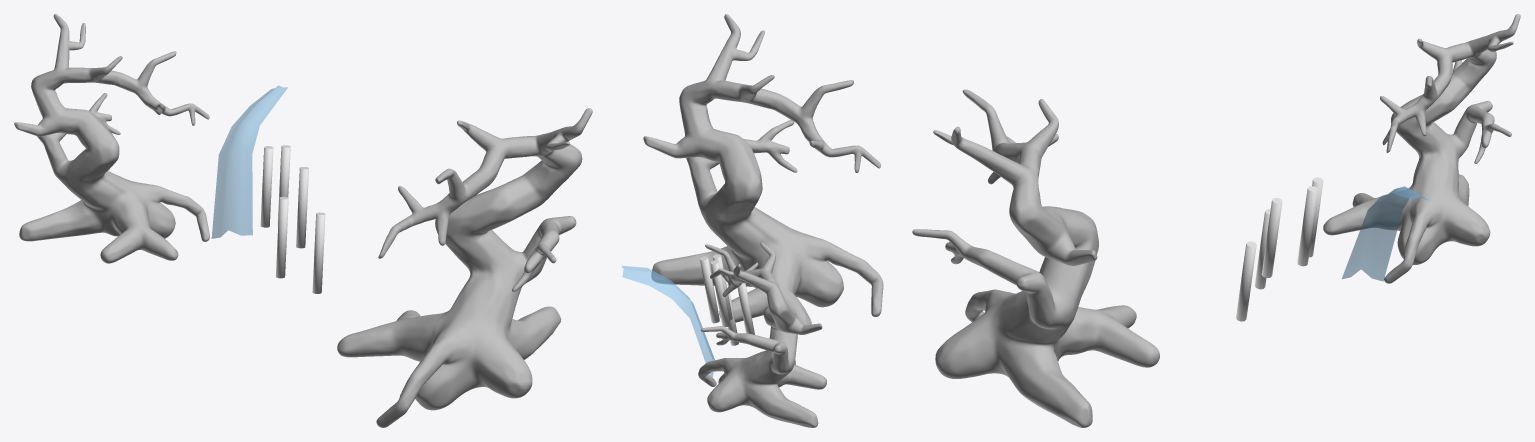
Rendered from BRUME_Blockout_N_Out1.fbx.
The picture shows the model from 3 angles, left to right: view 1: azimuth 30°, elevation 25°; view 2: azimuth 150°, elevation 25°; view 3: azimuth 270°, elevation 25°; orthographic projection. The views are drawn at different scales.
Parts seen in each view (by area): view 1: SM_Arbre_001.004, SM_Arbre_001, SM_Cascade.001, Cylinder.173, Cylinder.176, Cylinder.177, Cylinder.175, Cylinder.172; view 2: SM_Arbre_001.004, SM_Arbre_001, SM_Cascade.001, Cylinder.172, Cylinder.173, Cylinder.176; view 3: SM_Arbre_001.004, SM_Arbre_001, SM_Cascade.001, Cylinder.177, Cylinder.172, Cylinder.175.
Part boxes in pixels (bbox=[...]): SM_Arbre_001.004: bbox=[337, 108, 592, 427]; SM_Arbre_001: bbox=[14, 14, 209, 263]; SM_Cascade.001: bbox=[211, 85, 287, 238]; Cylinder.173: bbox=[260, 146, 273, 227]; Cylinder.176: bbox=[275, 196, 288, 278]; Cylinder.177: bbox=[312, 212, 325, 293]; Cylinder.175: bbox=[296, 167, 308, 248]; Cylinder.172: bbox=[277, 145, 290, 225]; SM_Arbre_001.004: bbox=[643, 14, 883, 325]; SM_Arbre_001: bbox=[698, 242, 826, 427]; SM_Cascade.001: bbox=[622, 265, 714, 376]; Cylinder.172: bbox=[700, 256, 719, 323]; Cylinder.173: bbox=[710, 260, 730, 326]; Cylinder.176: bbox=[737, 283, 754, 334]; SM_Arbre_001.004: bbox=[912, 89, 1159, 427]; SM_Arbre_001: bbox=[1323, 14, 1520, 283]; SM_Cascade.001: bbox=[1342, 186, 1427, 281]; Cylinder.177: bbox=[1236, 241, 1256, 321]; Cylinder.172: bbox=[1297, 186, 1317, 266]; Cylinder.175: bbox=[1261, 198, 1282, 277].
Bounding box in the file's own units: 2631 × 1925 × 3433.
